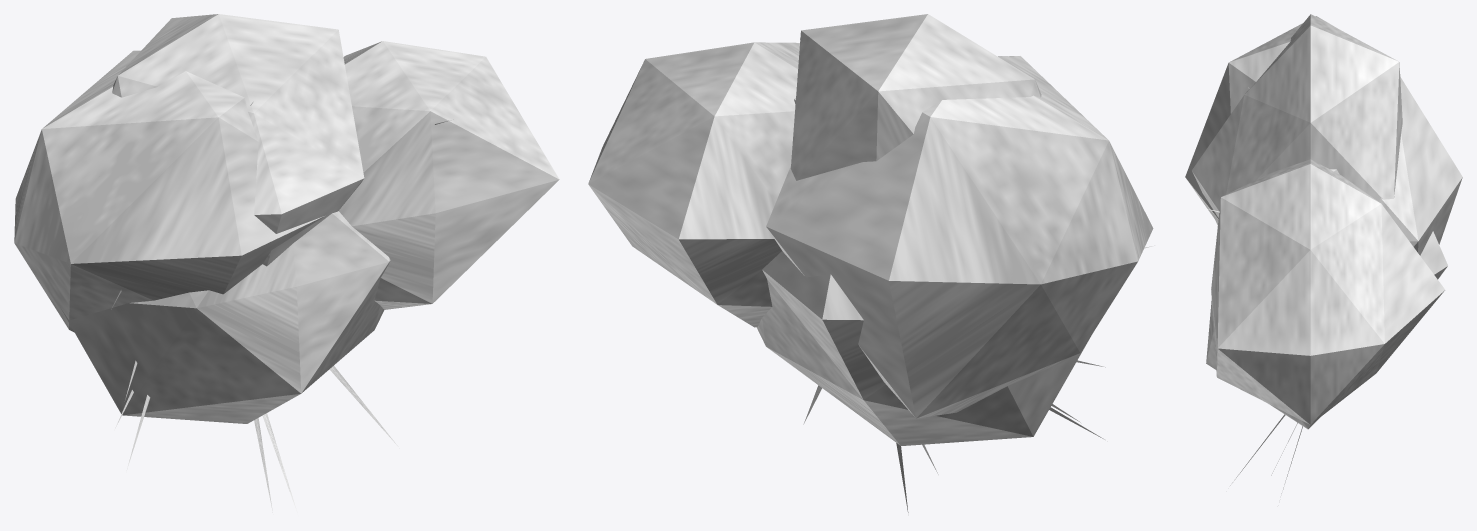
Rendered from SM_Plant_Saltbush.obj.
3 renders of one model, left to right at view 1: azimuth 30°, elevation 25°; view 2: azimuth 150°, elevation 25°; view 3: azimuth 270°, elevation 25°, orthographic. The views are drawn at different scales.
Visible parts, largest first — view 1: SM_Plant_Saltbush; view 2: SM_Plant_Saltbush; view 3: SM_Plant_Saltbush.
Boxes of the visible parts, <box> form: SM_Plant_Saltbush: <box>14,14,559,512</box>; SM_Plant_Saltbush: <box>588,14,1154,512</box>; SM_Plant_Saltbush: <box>1185,14,1462,493</box>.
Bounding box in the file's own units: 124 × 116 × 62.34.
2 materials, 2 textured.
